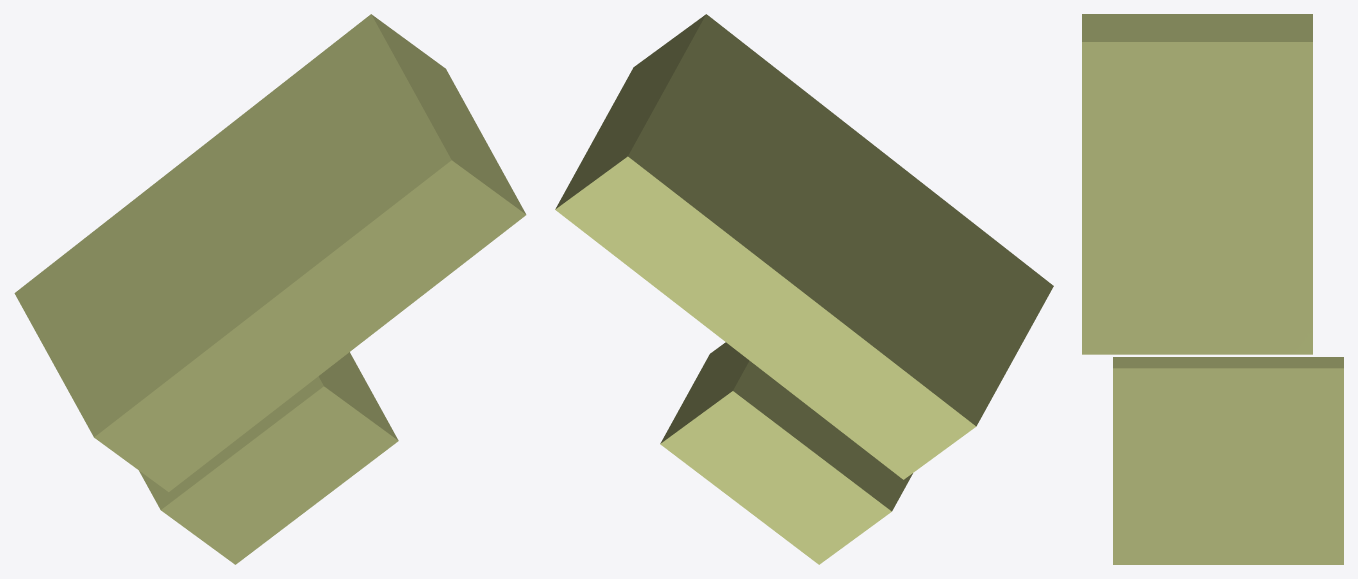
3 views of the same model, side by side, from view 1: azimuth 30°, elevation 25°; view 2: azimuth 150°, elevation 25°; view 3: azimuth 270°, elevation 25° (orthographic). The views are drawn at different scales.
Visible parts, largest first — view 1: 0_1_0_2_0_3_1_0_1_0; view 2: 0_1_0_2_0_3_1_0_1_0; view 3: 0_1_0_2_0_3_1_0_1_0.
Part boxes in pixels (x1,y1,x2,y2): 0_1_0_2_0_3_1_0_1_0: (14, 14, 526, 564); 0_1_0_2_0_3_1_0_1_0: (555, 14, 1053, 564); 0_1_0_2_0_3_1_0_1_0: (1082, 14, 1343, 564).
Bounding box in the file's own units: 20.26 × 20.12 × 6.8.
